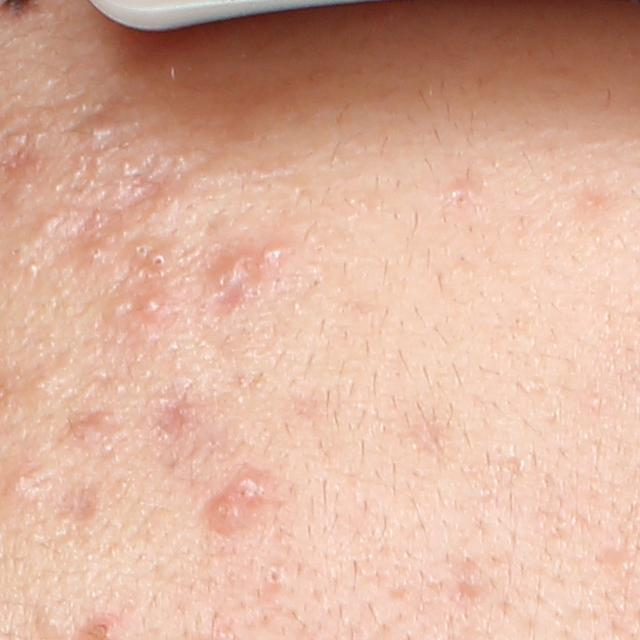comedo: (79, 240, 112, 268), (128, 239, 155, 265), (36, 213, 62, 240), (262, 564, 286, 589), (150, 251, 170, 271)
papule: (203, 491, 251, 543), (210, 252, 257, 293), (252, 237, 290, 264), (137, 293, 163, 316)
